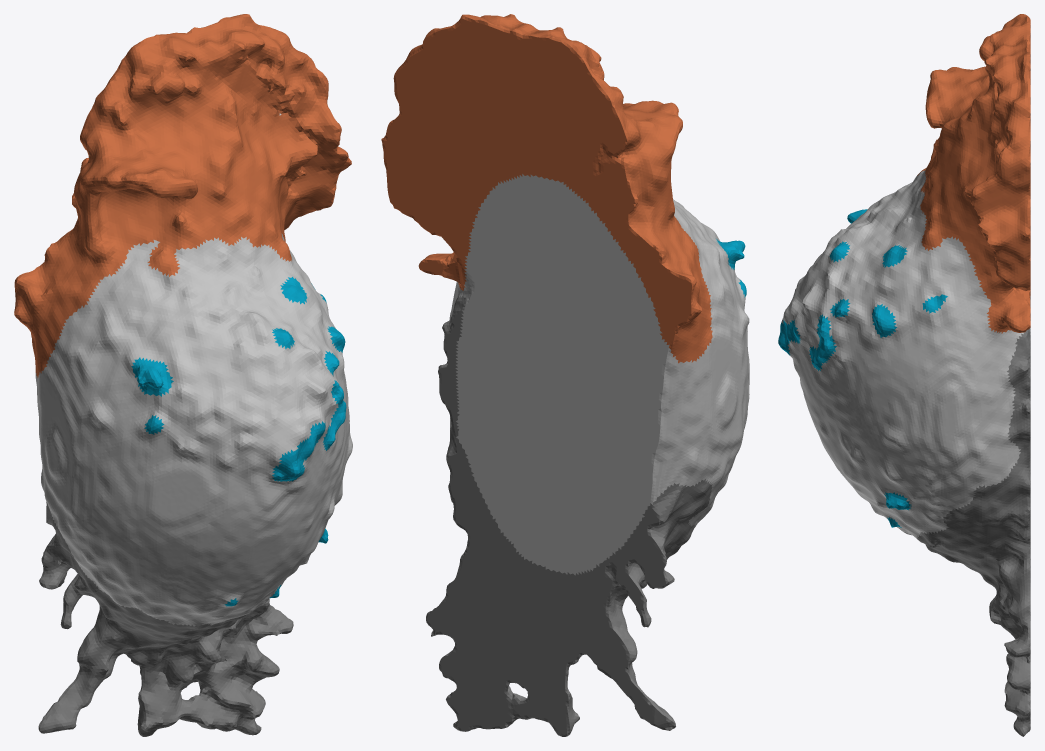
3 views of the same model, side by side, from view 1: azimuth 30°, elevation 25°; view 2: azimuth 150°, elevation 25°; view 3: azimuth 270°, elevation 25° (orthographic). The views are drawn at different scales.
Bounding box in the file's own units: 90.22 × 194 × 66.2.
